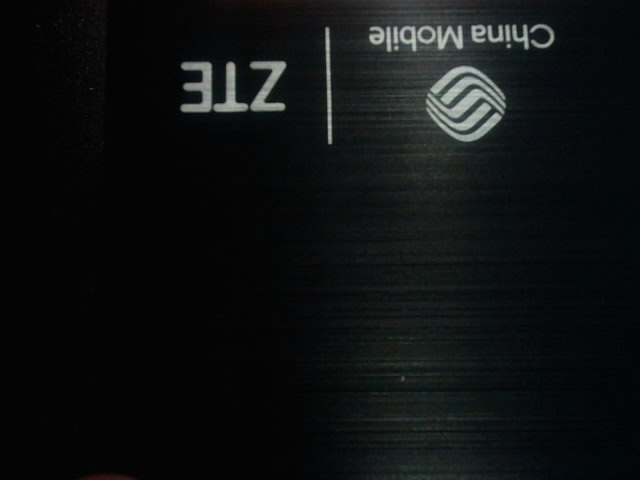AL_ZTEChinaMobile: (162, 17, 565, 171)
